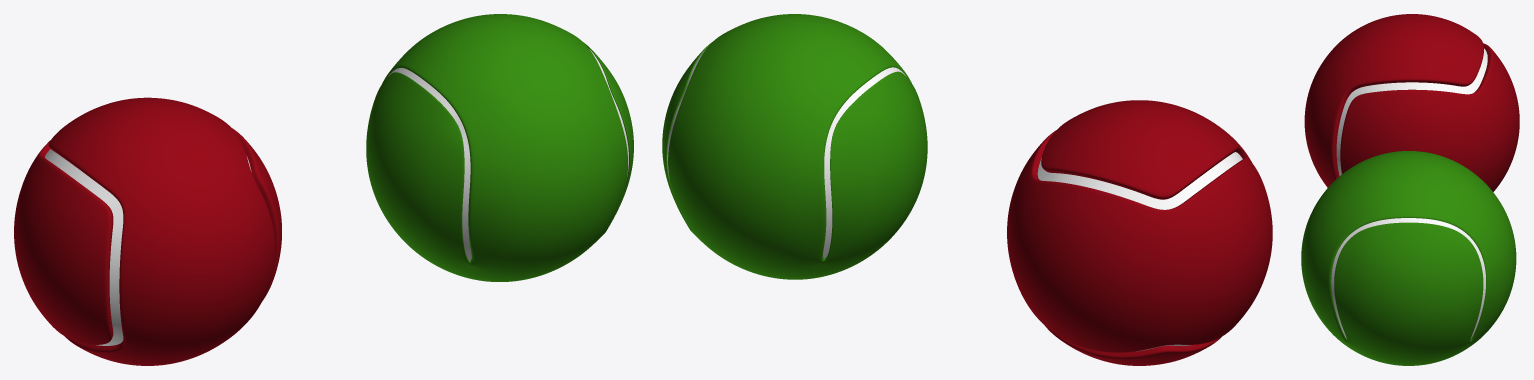
Rendered from realistic_tennis_ball_pack_red__green.glb.
3 views of the same model, side by side, from view 1: azimuth 30°, elevation 25°; view 2: azimuth 150°, elevation 25°; view 3: azimuth 270°, elevation 25° (orthographic). The views are drawn at different scales.
Visible parts, largest first — view 1: Roundcube, Roundcube.002, Roundcube.003, Roundcube.001; view 2: Roundcube, Roundcube.002, Roundcube.003, Roundcube.001; view 3: Roundcube, Roundcube.002, Roundcube.003, Roundcube.001.
Boxes of the visible parts, x1,y1,x2,y2 form: Roundcube: (366,14,633,281); Roundcube.002: (14,97,281,365); Roundcube.003: (45,149,251,345); Roundcube.001: (387,49,628,260); Roundcube: (662,14,927,279); Roundcube.002: (1007,100,1272,365); Roundcube.003: (1037,152,1242,351); Roundcube.001: (667,47,906,258); Roundcube: (1301,151,1516,365); Roundcube.002: (1304,14,1519,191); Roundcube.003: (1336,48,1487,175); Roundcube.001: (1331,218,1485,338).
Bounding box in the file's own units: 4.92 × 1.96 × 1.99.
